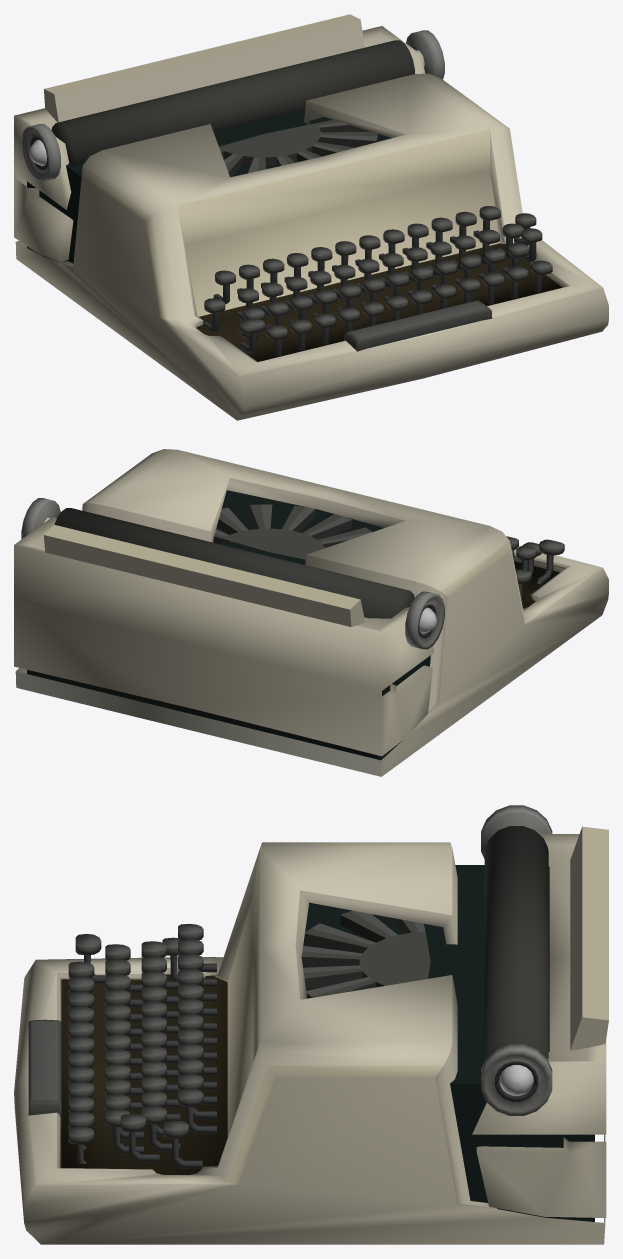
The model's file is typewriter_editted_2.fbx.
3 renders of one model, top to bottom at view 1: azimuth 30°, elevation 25°; view 2: azimuth 150°, elevation 25°; view 3: azimuth 270°, elevation 25°, orthographic. The views are drawn at different scales.
Parts seen in each view (by area): view 1: Typewriter.Tan; view 2: Typewriter.Tan; view 3: Typewriter.Tan.
Part boxes in pixels (x1,y1,x2,y2): Typewriter.Tan: [14, 14, 608, 420]; Typewriter.Tan: [14, 449, 608, 776]; Typewriter.Tan: [14, 805, 608, 1244].
Bounding box in the file's own units: 53.89 × 20.9 × 53.9.
